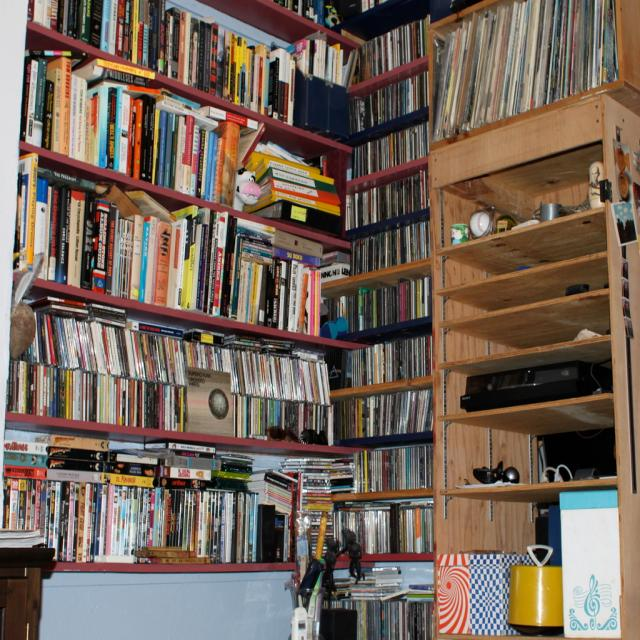Book: (20, 49, 344, 238), (13, 150, 326, 339), (0, 430, 440, 557), (4, 292, 337, 445), (26, 0, 293, 126), (432, 0, 616, 147), (316, 568, 434, 639), (323, 217, 427, 280), (341, 66, 430, 137), (341, 329, 435, 391), (331, 271, 431, 329), (346, 168, 434, 232), (348, 18, 429, 84), (350, 122, 428, 184), (336, 389, 430, 436), (296, 30, 357, 79)
